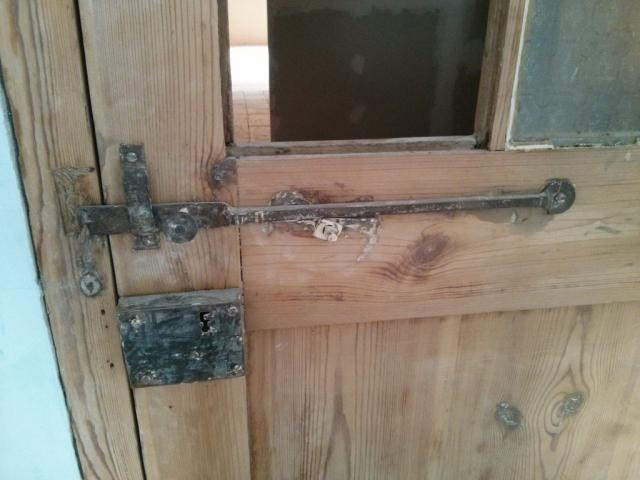Door-handle: (68, 142, 580, 256)
